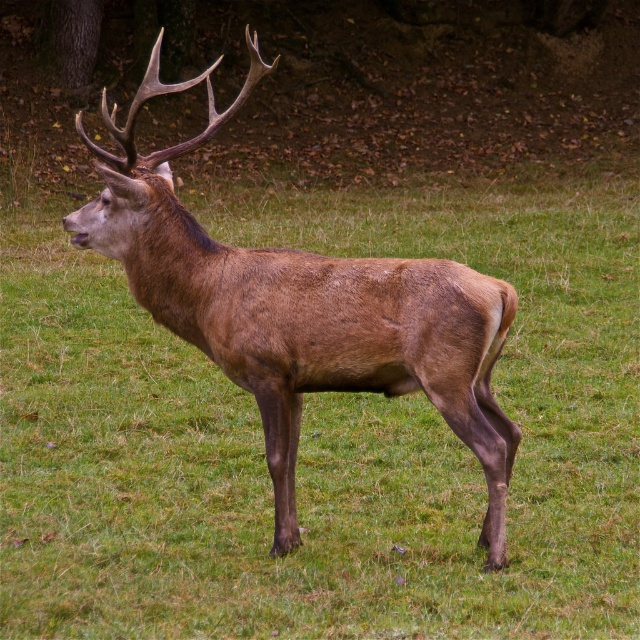Deer: (60, 20, 525, 572)
